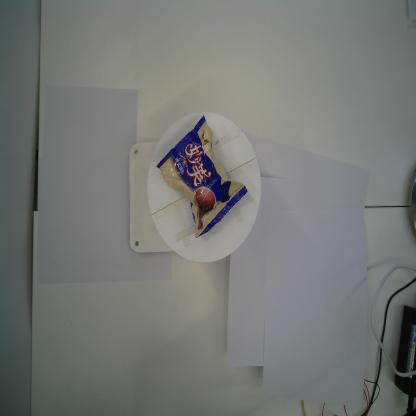Dessert: (155, 114, 248, 239)
